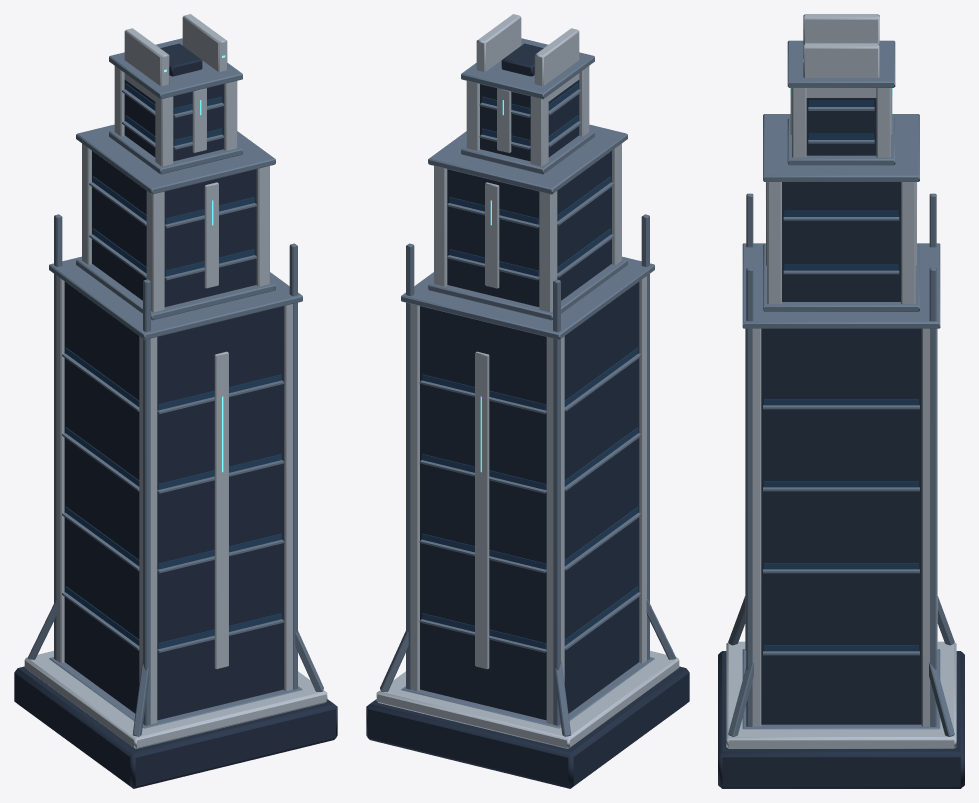
File: kit-low-v1.glb
The picture shows the model from 3 angles, left to right: view 1: azimuth 30°, elevation 25°; view 2: azimuth 150°, elevation 25°; view 3: azimuth 270°, elevation 25°; orthographic projection. The views are drawn at different scales.
Visible parts, largest first — view 1: city-tower_graphite, city-tower_ceramic, city-tower_alloy, city-tower_window; view 2: city-tower_graphite, city-tower_ceramic, city-tower_alloy, city-tower_window; view 3: city-tower_graphite, city-tower_alloy, city-tower_ceramic, city-tower_window.
Boxes of the visible parts, left/top/right/bottom form: city-tower_graphite: left=14, top=43, right=337, bottom=788; city-tower_ceramic: left=24, top=14, right=327, bottom=748; city-tower_alloy: left=28, top=38, right=323, bottom=736; city-tower_window: left=65, top=83, right=281, bottom=649; city-tower_graphite: left=366, top=43, right=689, bottom=788; city-tower_ceramic: left=376, top=14, right=679, bottom=748; city-tower_alloy: left=380, top=38, right=675, bottom=736; city-tower_window: left=422, top=83, right=638, bottom=649; city-tower_graphite: left=718, top=98, right=964, bottom=788; city-tower_alloy: left=728, top=40, right=954, bottom=736; city-tower_ceramic: left=726, top=14, right=956, bottom=748; city-tower_window: left=764, top=100, right=918, bottom=651.
Size of the model in its own units: 12 by 38 by 12.
